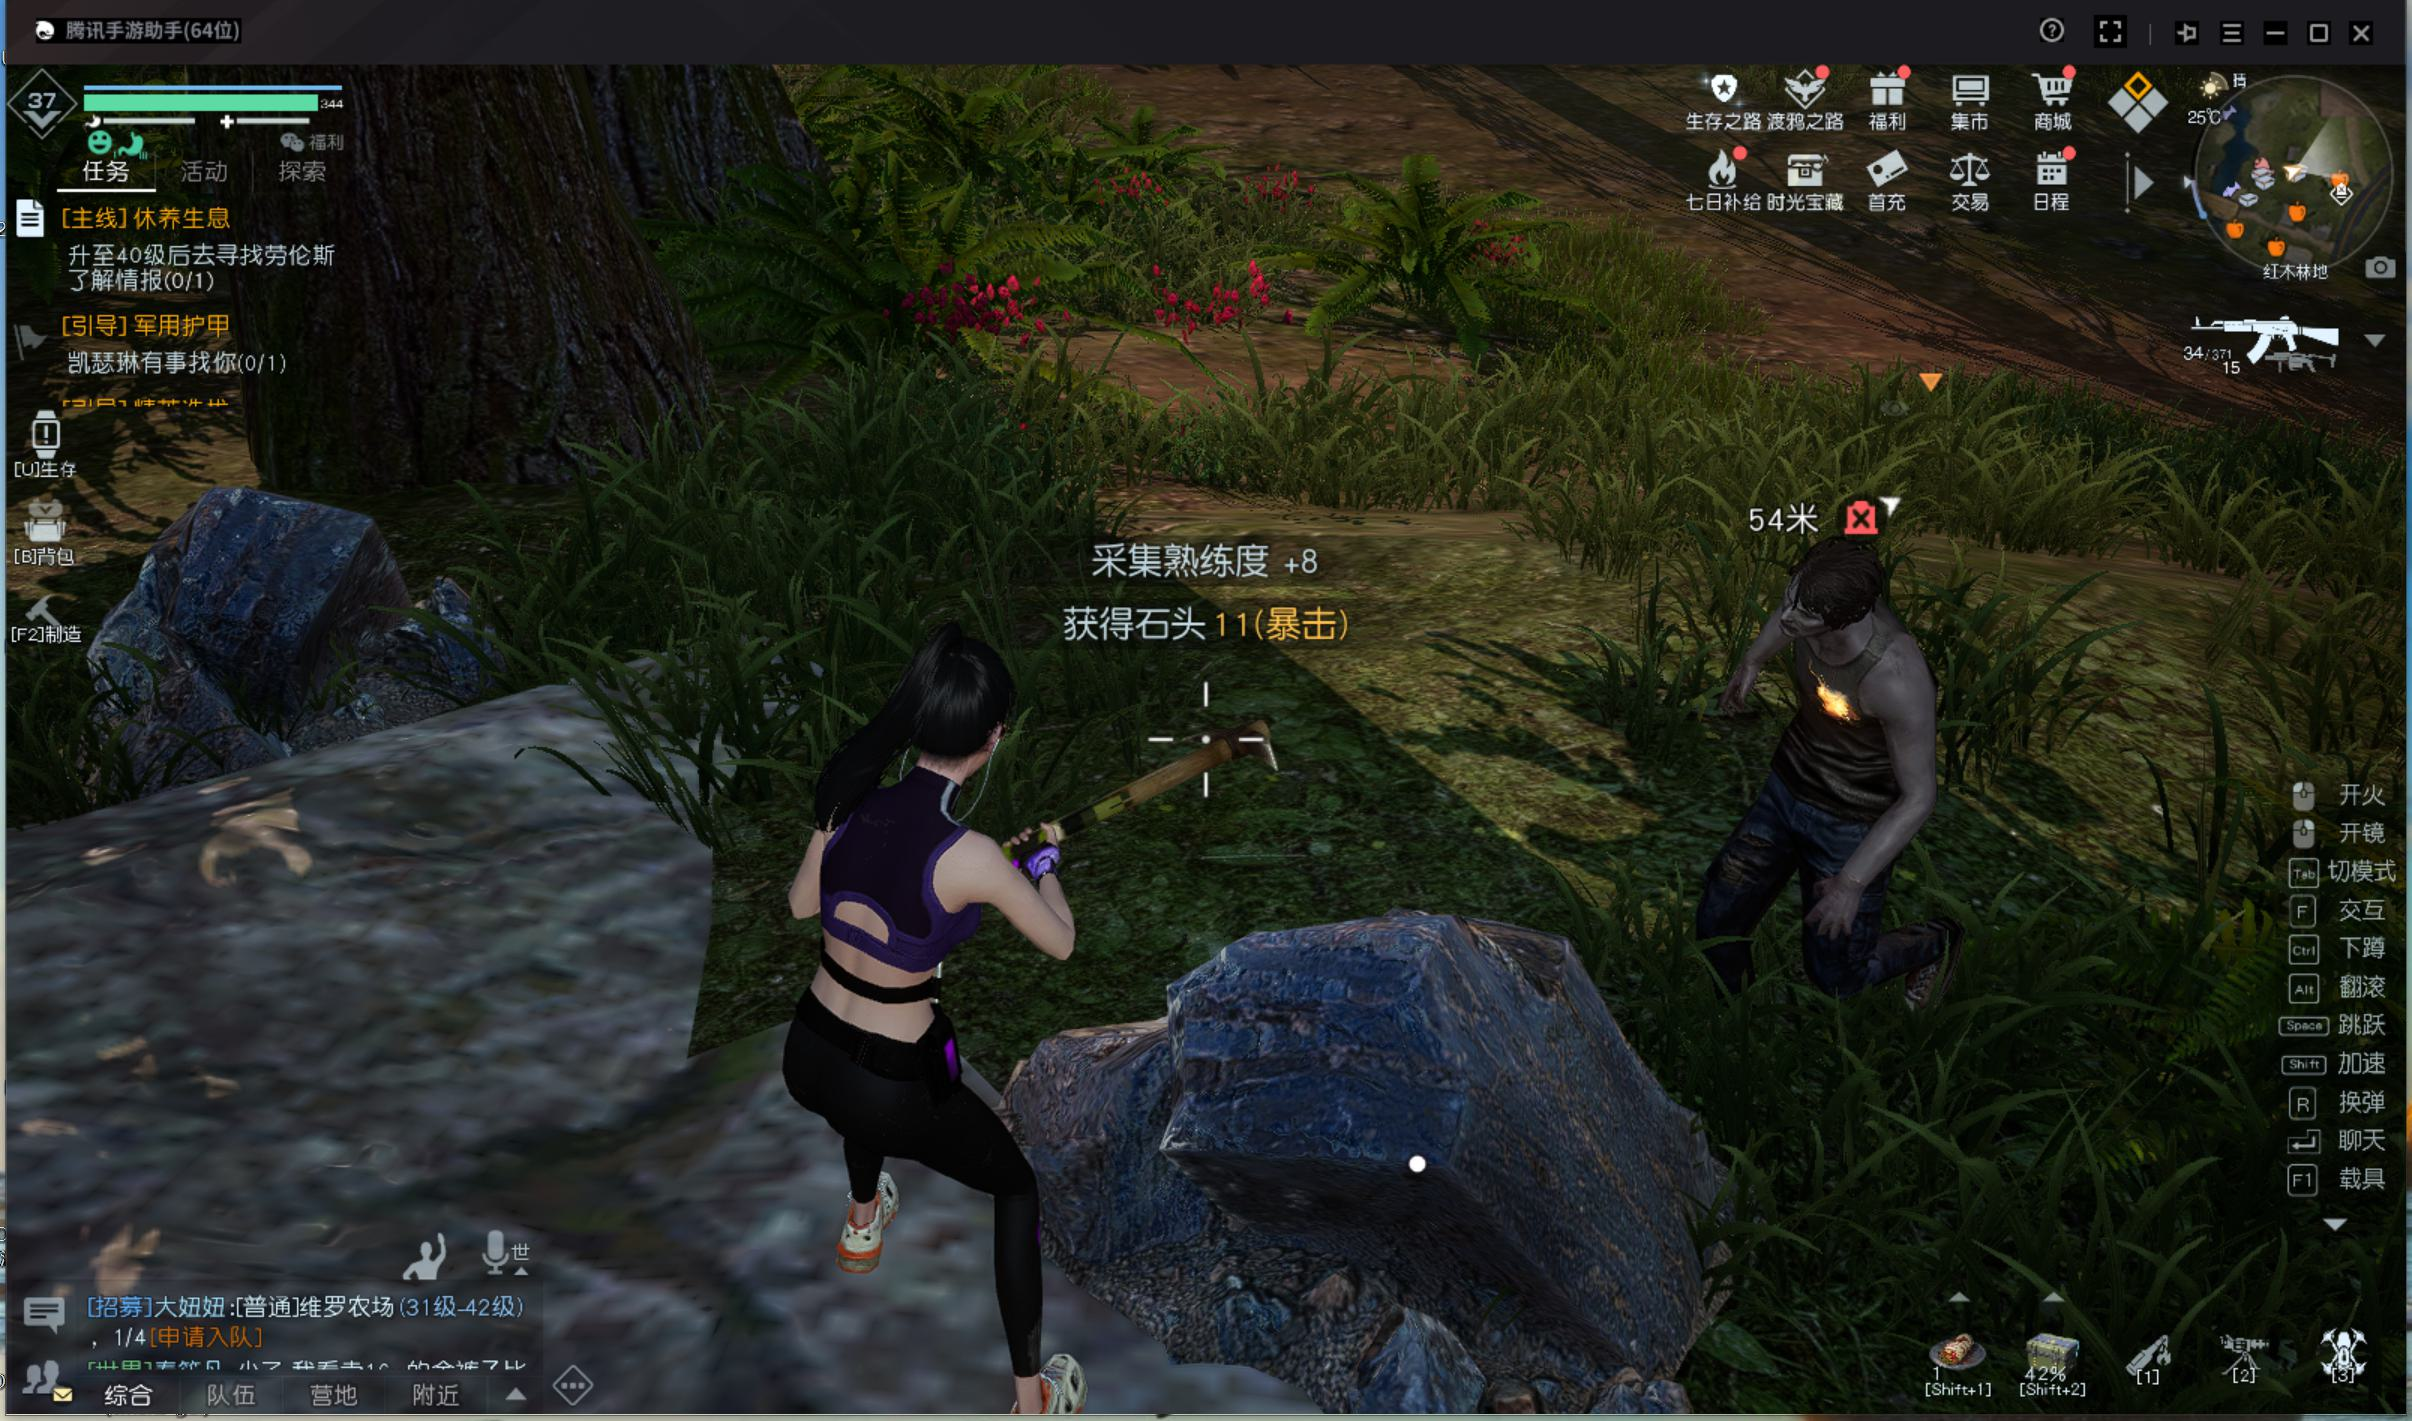stone: (1127, 875, 1778, 1375), (73, 469, 644, 814)
